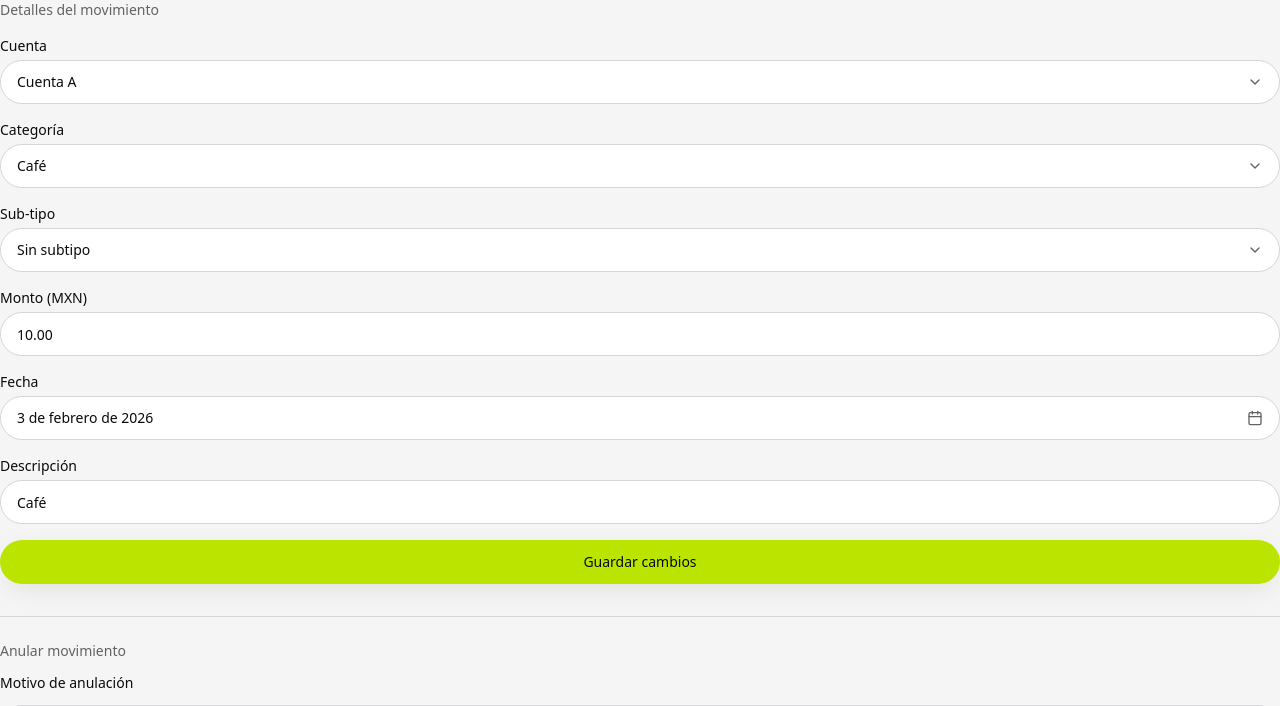
Test: EditTransactionForm — over-budget confirmation gate (B-011) › prompts when raising the amount past the limit
This screenshot has width=1280, height=706.
Replace the text in the number field labelled "Monto (MXN)" with "20" at point(640, 334), box [0,312,1279,356]
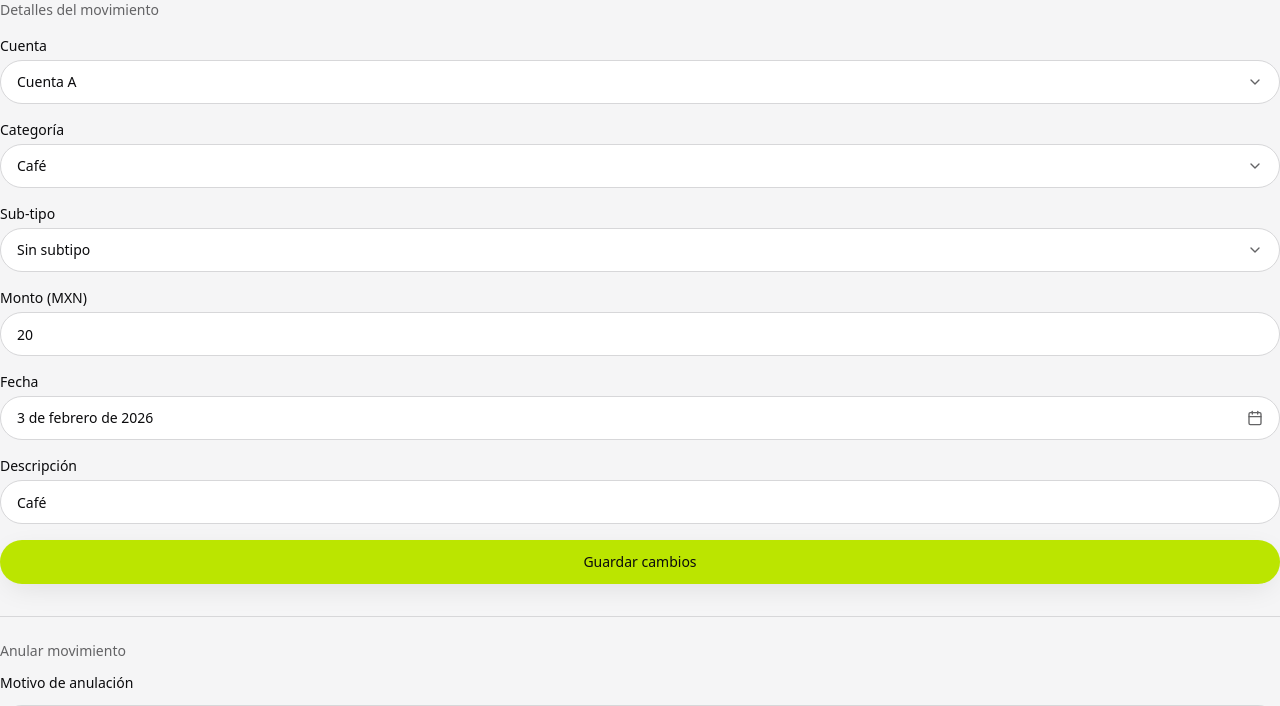
Click the button "Guardar cambios" at point(640, 562), box [0,540,1279,584]
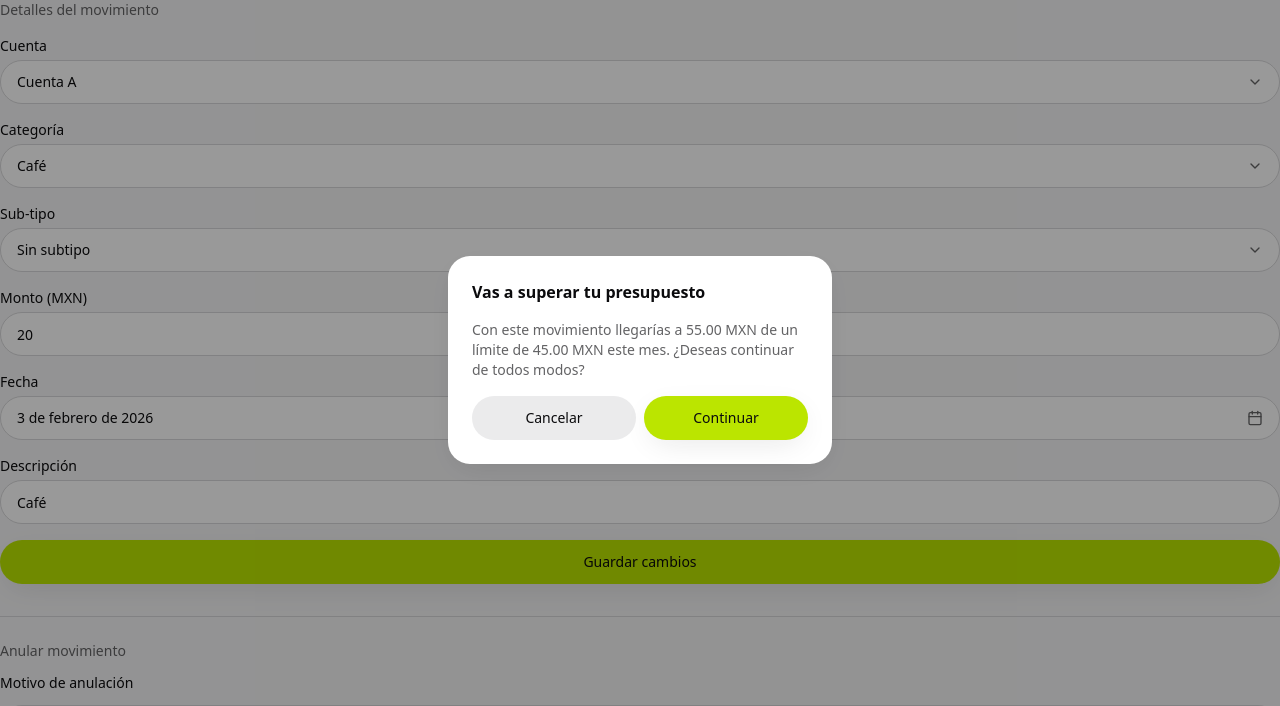
Expected: the heading "Vas a superar tu presupuesto" is shown, [472,281,705,303]
